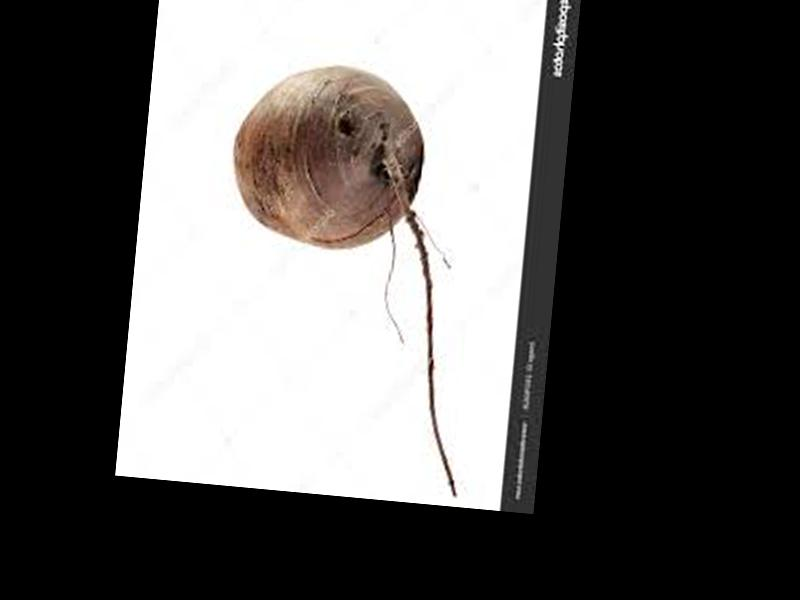Beet: (206, 59, 495, 498)
